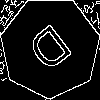D: (24, 22, 80, 81)
